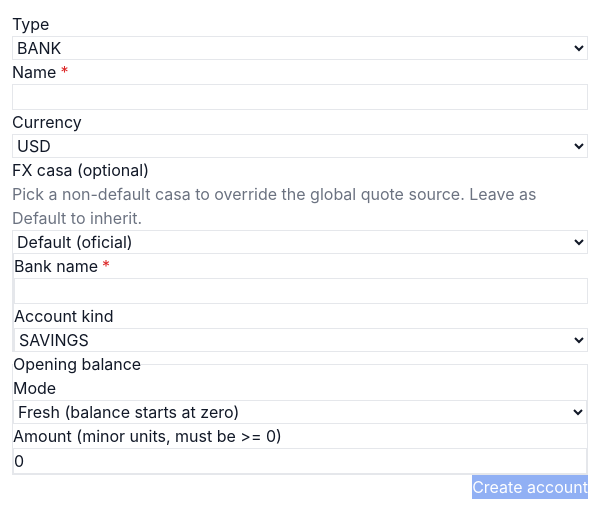
Test case: CreateAccountForm — production inline validation + loading (slice 2) › renders a Spinner + disabled + aria-busy on the submit button while in flight
The width and height of the screenshot is (609, 516).
# Fill required fields so the submit button enables.
In the field labelled "Name*": (300, 97) [12, 84, 588, 110], type "My new account"
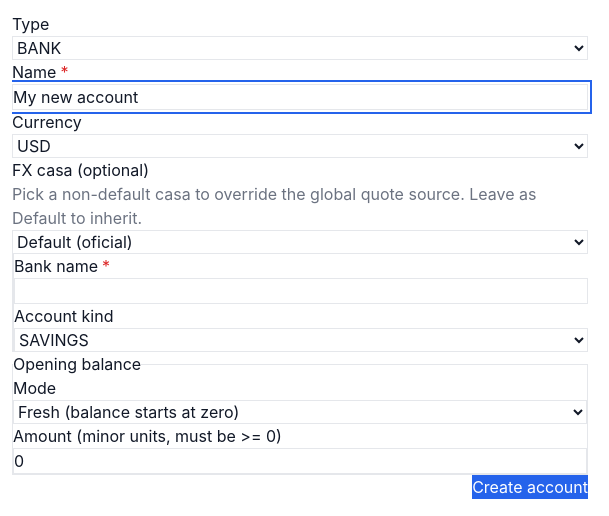
# Pick BANK bankName so the conditional required field is filled.
In the field labelled "Bank name*": (301, 291) [14, 278, 588, 304], type "Test bank"
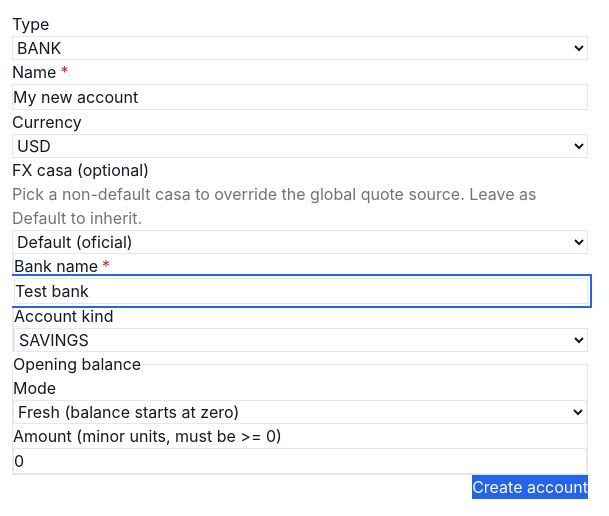
Click the button "Create account": (530, 487) [472, 475, 588, 499]
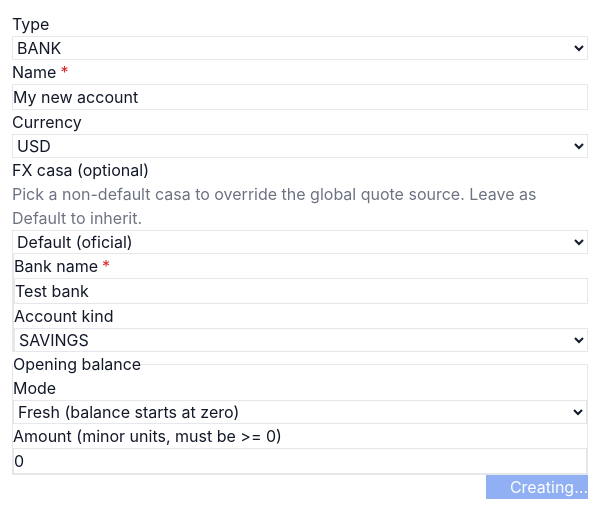
expect the button named "create account" is disabled: met, box [486, 475, 588, 499]
expect the message with test id "ui-spinner" is shown: met, box [486, 479, 502, 495]
